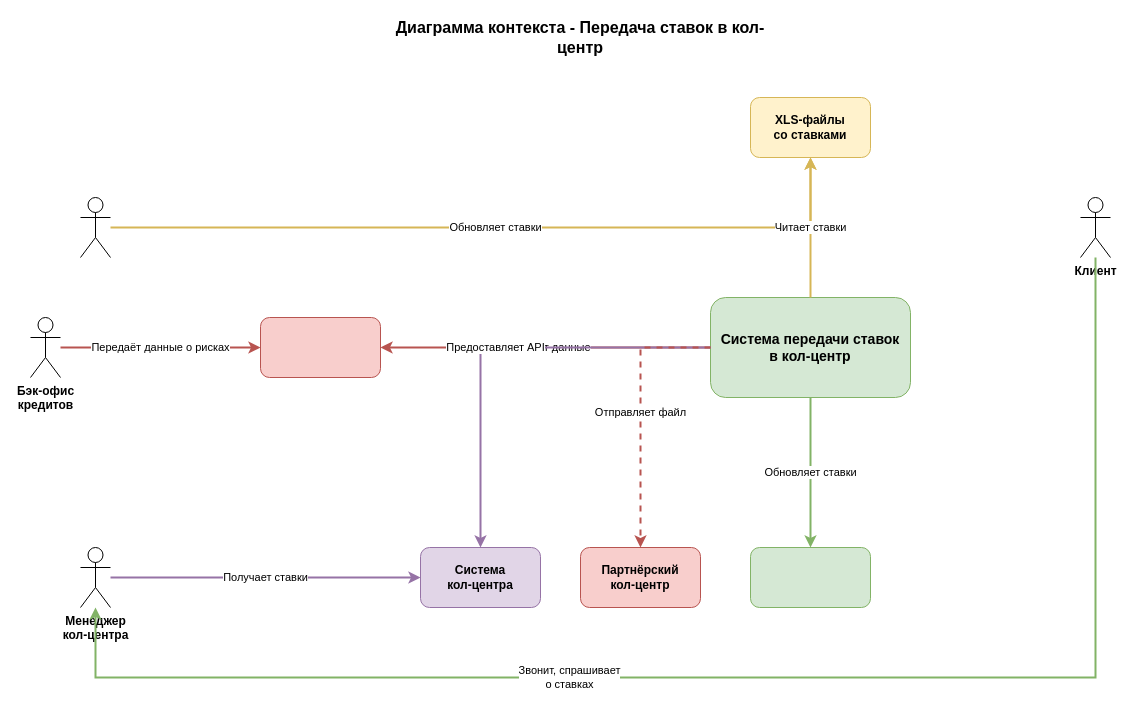
This 1134x707 diagram has some shape labels left out. Each missing label, with the centre of its shape:
"АБС" goes at point 320,347.
"База данных ставок" goes at point 810,577.
"Бэк-офис депозитов" goes at point 95,227.
